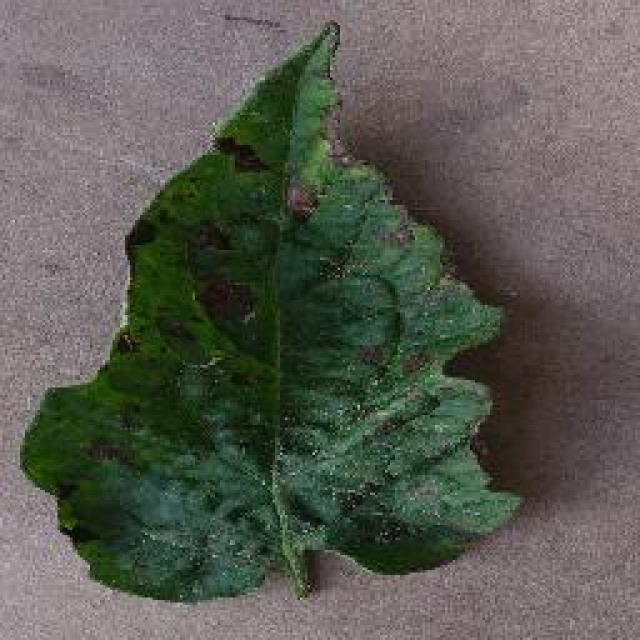Tomato_Early_Blight: (37, 24, 544, 613)
